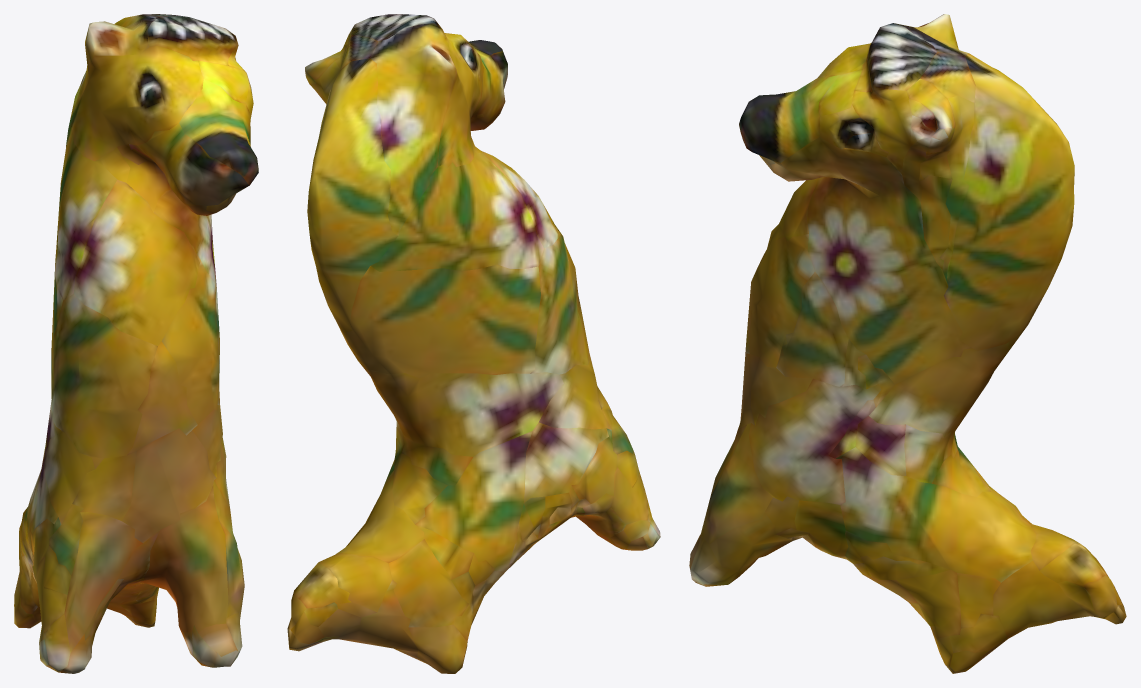
File: hall.glb
The picture shows the model from 3 angles, left to right: view 1: azimuth 30°, elevation 25°; view 2: azimuth 150°, elevation 25°; view 3: azimuth 270°, elevation 25°; orthographic projection. The views are drawn at different scales.
Bounding box in the file's own units: 0.4313 × 0.938 × 0.5862.
Materials: 1 (1 with a texture image).
